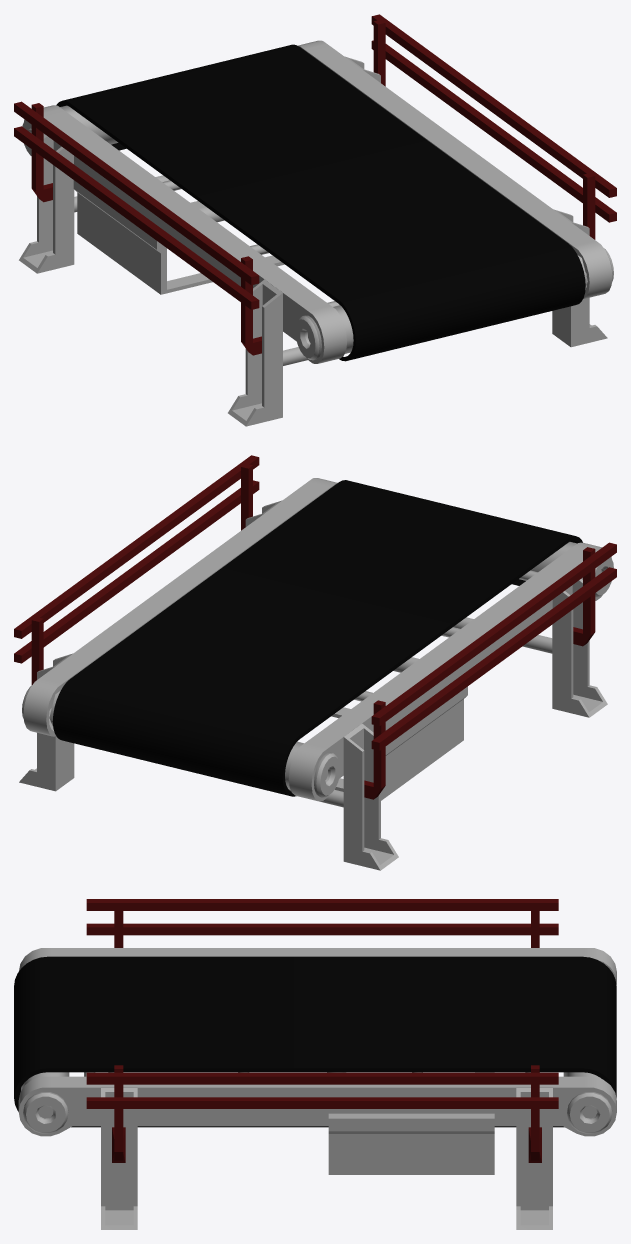
File: SM_ProdLine_transporter_small_c.FBX
3 views of the same model, one above another, from view 1: azimuth 30°, elevation 25°; view 2: azimuth 150°, elevation 25°; view 3: azimuth 270°, elevation 25° (orthographic).
Parts seen in each view (by area): view 1: SM_ProdLine_transporter_small_c_LOD0; view 2: SM_ProdLine_transporter_small_c_LOD0; view 3: SM_ProdLine_transporter_small_c_LOD0.
Part boxes in pixels (bbox=[...]): SM_ProdLine_transporter_small_c_LOD0: bbox=[14, 14, 616, 426]; SM_ProdLine_transporter_small_c_LOD0: bbox=[14, 455, 616, 870]; SM_ProdLine_transporter_small_c_LOD0: bbox=[14, 899, 616, 1229].
Size of what is drawn, in the model's own units: 151 by 217 by 62.67.
